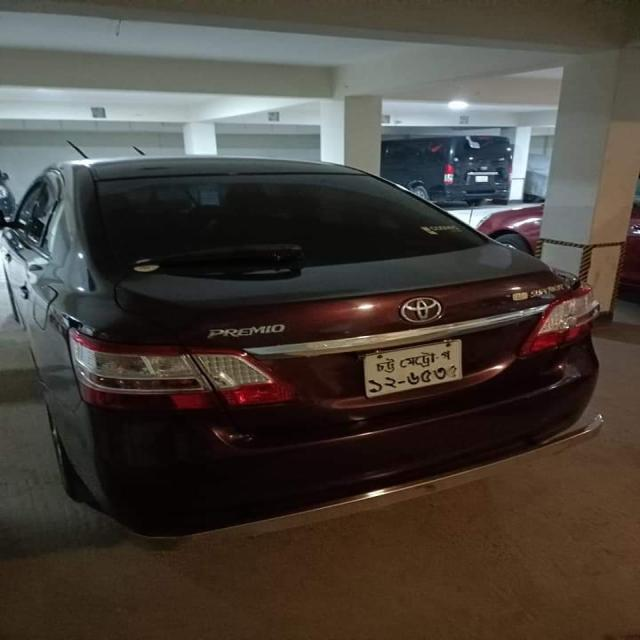maroon: (7, 162, 614, 535)
